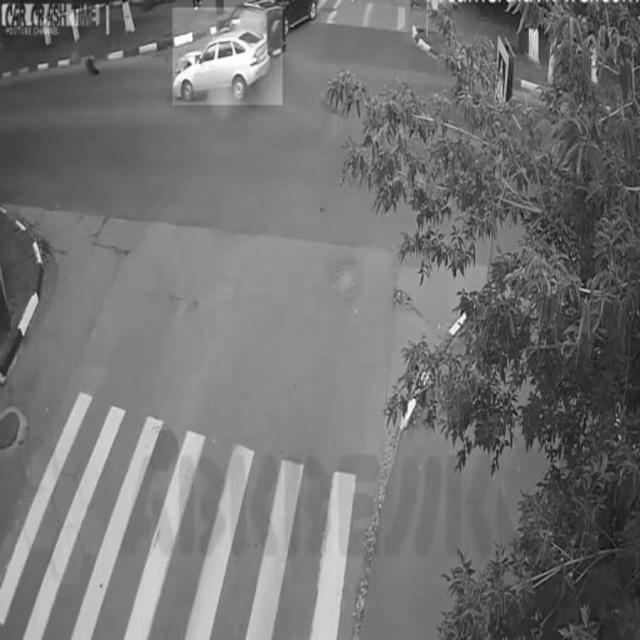accident: (172, 8, 283, 106)
